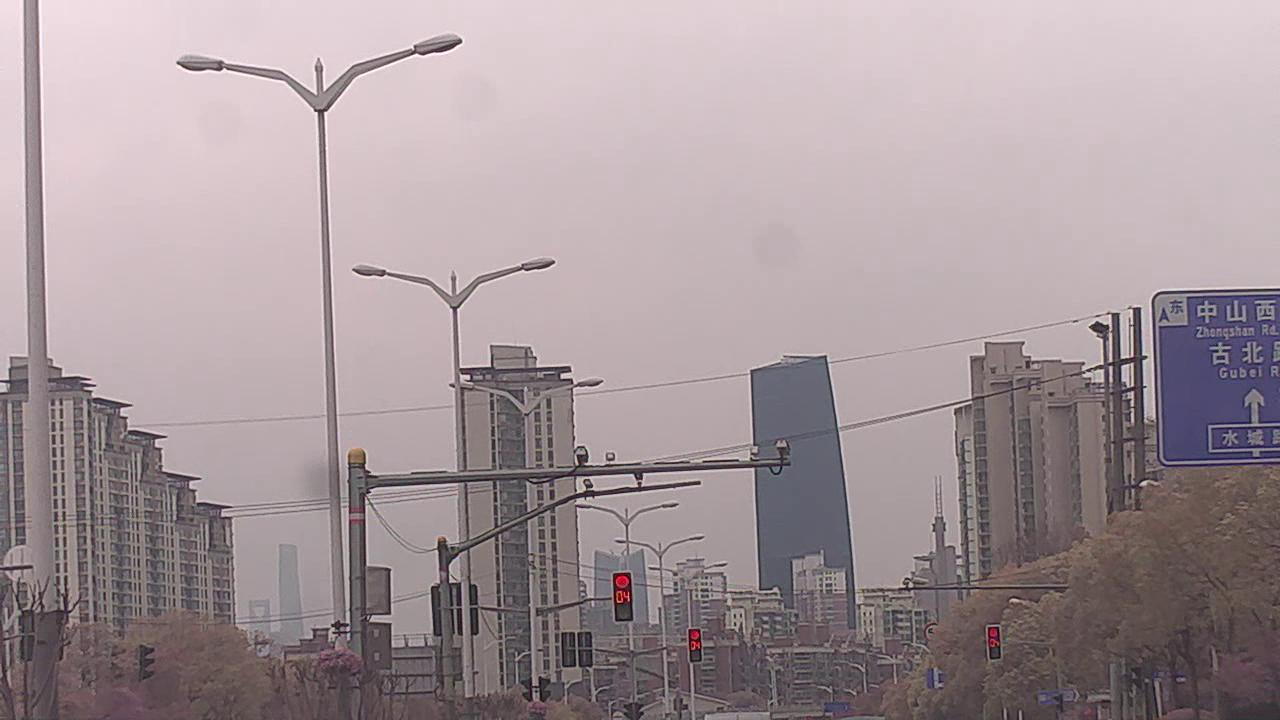traffic_light: (613, 571, 632, 621), (987, 622, 1005, 660), (687, 627, 704, 660)
